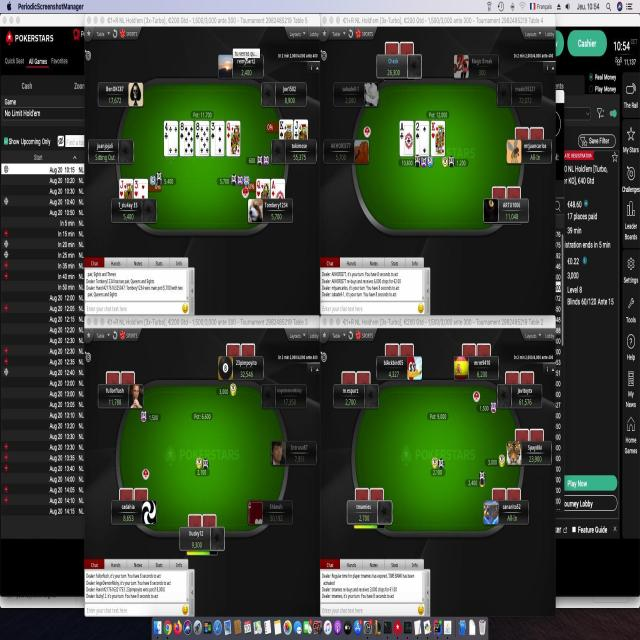2S: (415, 120, 421, 142)
3H: (133, 178, 140, 198)
3S: (210, 121, 216, 141)
4C: (164, 121, 169, 143)
8C: (195, 121, 200, 143)
8S: (179, 119, 185, 143)
AC: (400, 118, 404, 141)
AD: (270, 178, 278, 198)
JC: (294, 118, 300, 139)
JH: (119, 177, 125, 199)
KH: (430, 120, 436, 140)
KS: (278, 117, 286, 137)
QD: (225, 122, 231, 142)
QH: (255, 179, 262, 200)
